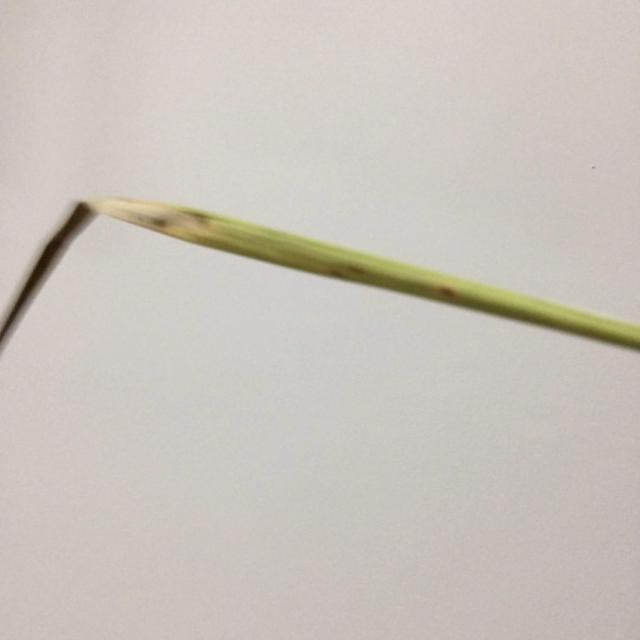brownspots: (320, 258, 376, 284), (136, 208, 176, 236), (432, 281, 465, 305)
